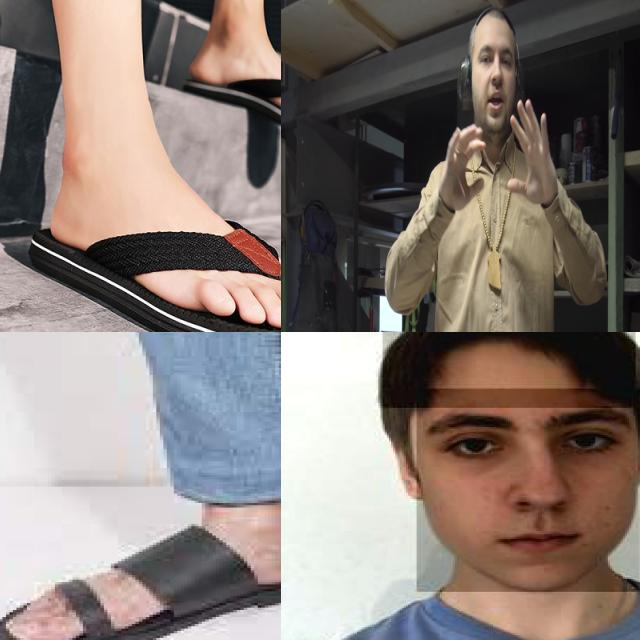Ear-protection: (454, 8, 526, 137)
No_Glasses: (423, 401, 636, 474), (474, 39, 514, 81)
Sandals: (0, 513, 281, 640), (39, 192, 281, 332)
face_nomask: (416, 388, 640, 592)
head_nohelmet: (382, 332, 635, 407)
person: (281, 332, 640, 640)
